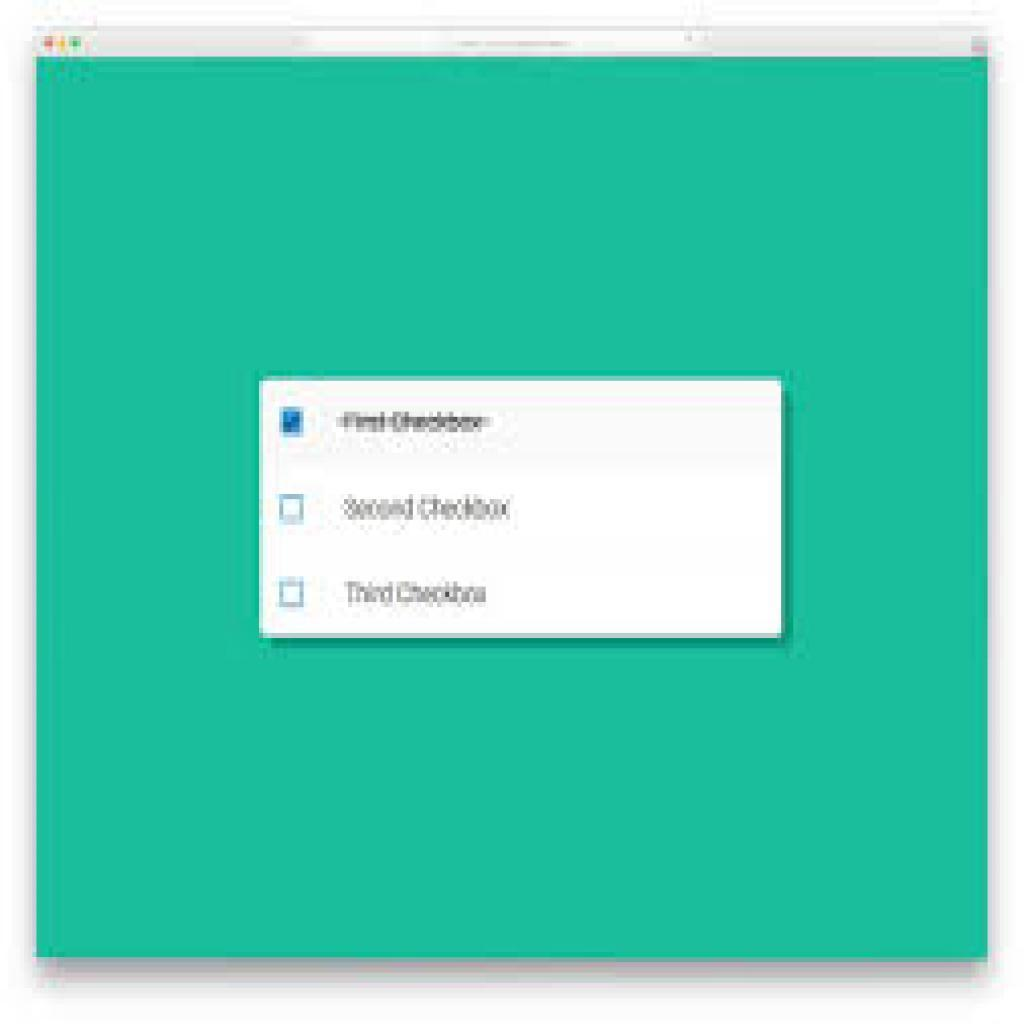checkbox: (275, 574, 311, 614), (277, 491, 308, 530), (278, 404, 309, 442)
